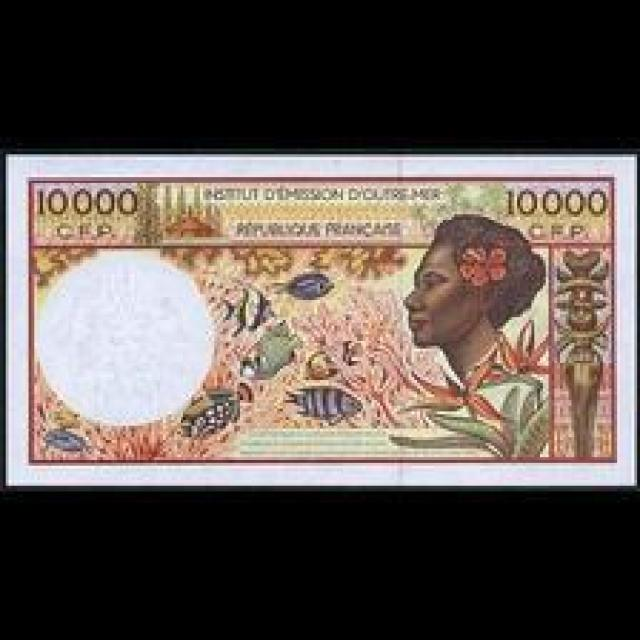banknote: (3, 151, 640, 483), (29, 185, 141, 224), (500, 181, 609, 221)
